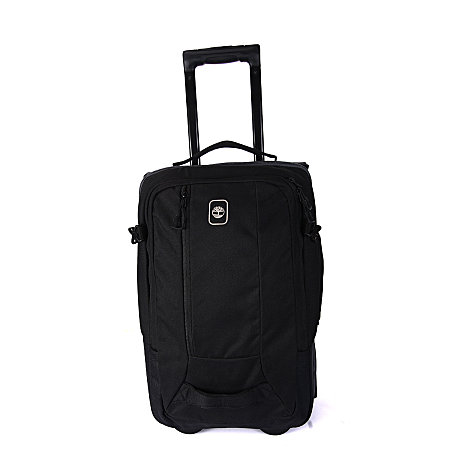luggage: (128, 42, 325, 437)
